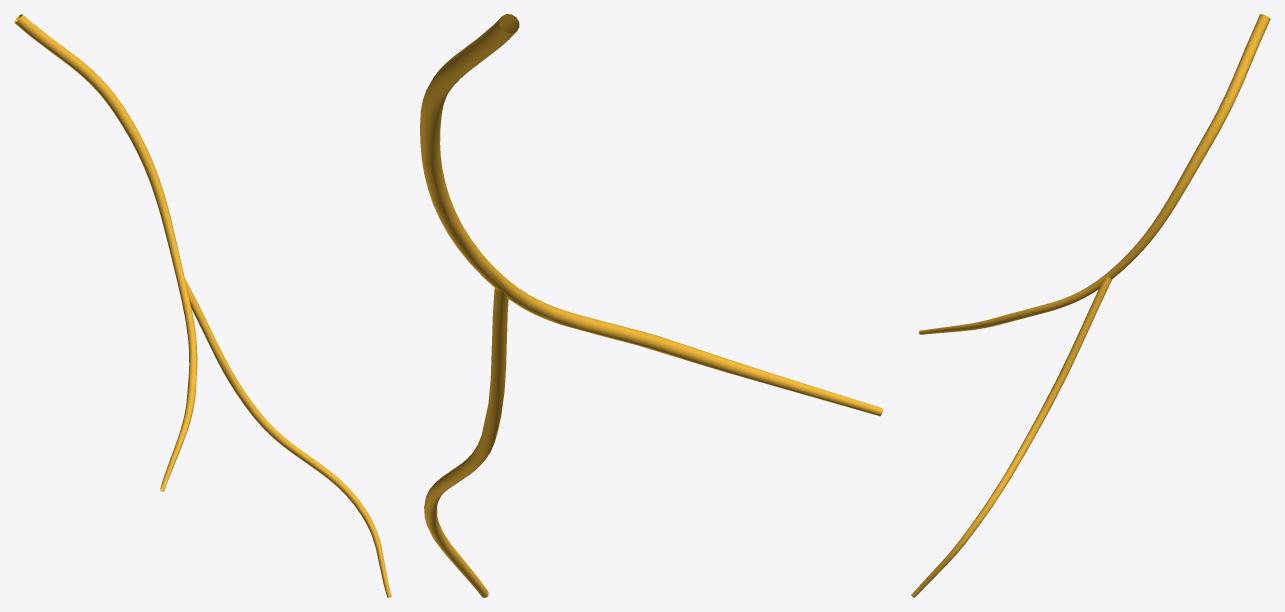
File: nervoso-medial-pectoral-nerve-l.glb
3 views of the same model, side by side, from view 1: azimuth 30°, elevation 25°; view 2: azimuth 150°, elevation 25°; view 3: azimuth 270°, elevation 25° (orthographic). The views are drawn at different scales.
Visible parts, largest first — view 1: Medial pectoral nerve.l; view 2: Medial pectoral nerve.l; view 3: Medial pectoral nerve.l.
Part boxes in pixels (x1,y1,x2,y2): Medial pectoral nerve.l: (14,14,391,597); Medial pectoral nerve.l: (420,14,882,597); Medial pectoral nerve.l: (911,14,1270,597).
Bounding box in the file's own units: 0.0455 × 0.0932 × 0.0616.
